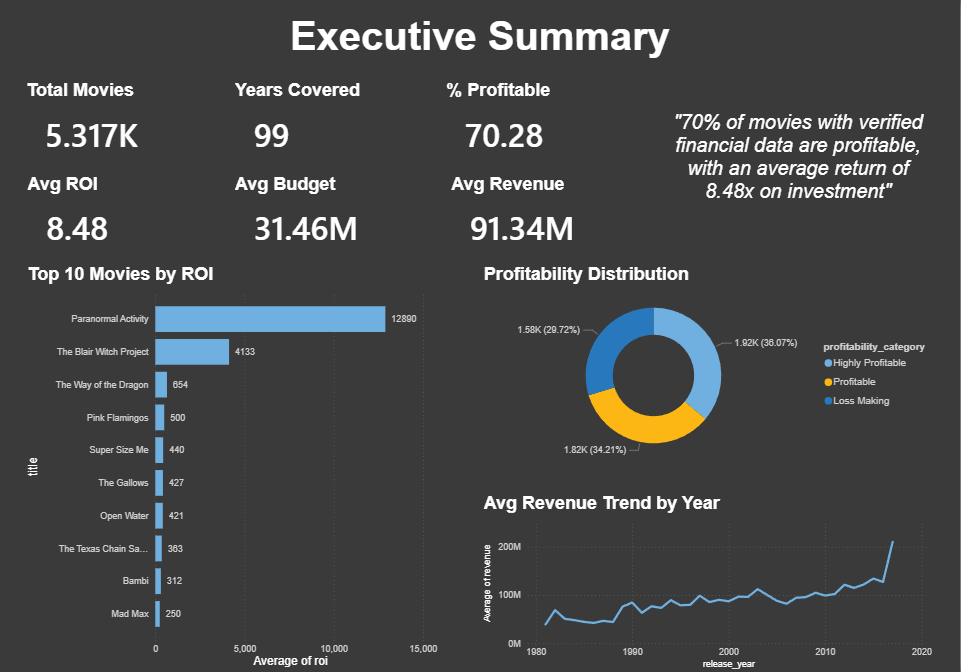

The page's visual inventory and layout, read from the dashboard file:
{"tool":"powerbi","page":{"name":"Executive summary","canvas":[1280,900],"ordinal":0},"visuals":[{"type":"cardVisual","title":"Total Movies","fields":{"Data":["CountNonNull(movies_final.title)"]},"box":[30,106.7,256.7,111.7],"z":0},{"type":"cardVisual","title":"Years Covered","fields":{"Data":["Count(movies_final.release_year)"]},"box":[308.3,106.7,255,111.7],"z":1000},{"type":"cardVisual","title":"Avg ROI","fields":{"Data":["Avg(movies_final.roi)"]},"box":[30.9,232.2,256,112],"z":2000},{"type":"cardVisual","title":"Avg Budget","fields":{"Data":["Avg(movies_final.budget)"]},"box":[308.3,232.2,256,112],"z":3000},{"type":"cardVisual","title":"Avg Revenue","fields":{"Data":["Avg(movies_final.revenue)"]},"box":[597,232.2,256,112],"z":4000},{"type":"barChart","title":"Top 10 Movies by ROI","fields":{"Y":["Avg(movies_final.roi)"],"Category":["movies_final.title"]},"box":[32,352,560,544],"z":5000},{"type":"donutChart","title":"Profitability Distribution","fields":{"Category":["movies_final.profitability_category"],"Y":["CountNonNull(movies_final.title)"]},"box":[640,352,608,272],"z":6000},{"type":"lineChart","title":"Avg Revenue Trend by Year  ","fields":{"Category":["movies_final.release_year"],"Y":["Avg(movies_final.revenue)"]},"box":[640,656,608,240],"z":7000},{"type":"textbox","box":[31.7,13.3,1216.7,93.3],"z":8000},{"type":"textbox","box":[880,144,368,160],"z":9000},{"type":"cardVisual","title":"% Profitable","fields":{"Data":["genres_clean.% Profitable"]},"box":[590,106.7,263.3,111.7],"z":10000}]}

Visuals, with their boxes in screenshot pixels (x1, y1, x2, y2), scaled from the page's 1280x900 canvas onto the 961x672 screenshot:
"Total Movies" cardVisual: rect(23, 80, 215, 163)
"Years Covered" cardVisual: rect(231, 80, 423, 163)
"Avg ROI" cardVisual: rect(23, 173, 215, 257)
"Avg Budget" cardVisual: rect(231, 173, 424, 257)
"Avg Revenue" cardVisual: rect(448, 173, 640, 257)
"Top 10 Movies by ROI" barChart: rect(24, 263, 444, 669)
"Profitability Distribution" donutChart: rect(480, 263, 937, 466)
"Avg Revenue Trend by Year  " lineChart: rect(480, 490, 937, 669)
textbox: rect(24, 10, 937, 80)
textbox: rect(661, 108, 937, 227)
"% Profitable" cardVisual: rect(443, 80, 641, 163)
